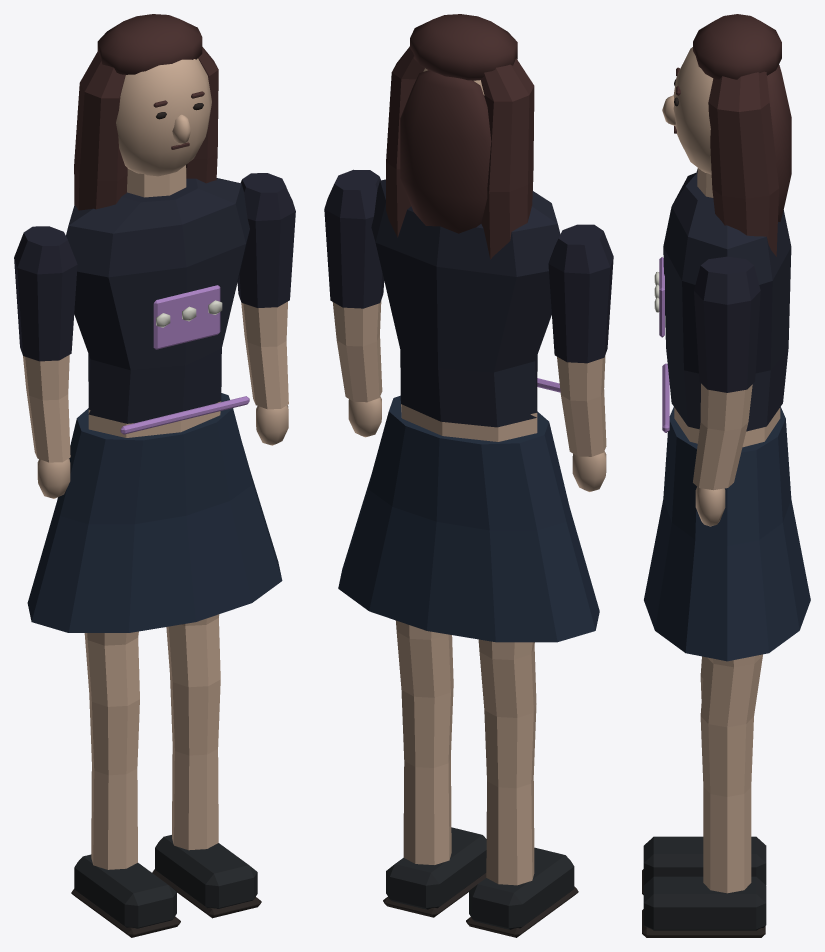
The model's file is person-6.glb.
3 views of the same model, side by side, from view 1: azimuth 30°, elevation 25°; view 2: azimuth 150°, elevation 25°; view 3: azimuth 270°, elevation 25° (orthographic). The views are drawn at different scales.
Visible parts, largest first — view 1: body, knee_l, knee_r, arm_l, arm_r, leg_l, leg_r; view 2: body, knee_l, knee_r, arm_l, arm_r, leg_l, leg_r; view 3: body, knee_r, arm_r, leg_r, knee_l.
Part boxes in pixels (x1=…): body: x1=27, y1=14, x2=282, y2=632; knee_l: x1=71, y1=694, x2=180, y2=937; knee_r: x1=152, y1=674, x2=261, y2=918; arm_l: x1=14, y1=226, x2=77, y2=498; arm_r: x1=237, y1=173, x2=295, y2=445; leg_l: x1=84, y1=631, x2=139, y2=706; leg_r: x1=166, y1=614, x2=220, y2=687; body: x1=338, y1=14, x2=599, y2=642; knee_l: x1=466, y1=705, x2=578, y2=937; knee_r: x1=383, y1=684, x2=486, y2=917; arm_l: x1=548, y1=224, x2=613, y2=491; arm_r: x1=324, y1=169, x2=384, y2=437; leg_l: x1=478, y1=639, x2=536, y2=717; leg_r: x1=395, y1=620, x2=453, y2=697; body: x1=644, y1=14, x2=810, y2=661; knee_r: x1=642, y1=716, x2=766, y2=937; arm_r: x1=693, y1=256, x2=760, y2=526; leg_r: x1=700, y1=654, x2=762, y2=727; knee_l: x1=642, y1=676, x2=766, y2=894.
Bounding box in the file's own units: 0.1044 × 0.3148 × 0.0545.
